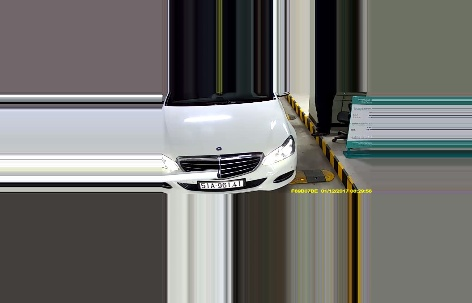plate: (197, 178, 246, 190)
